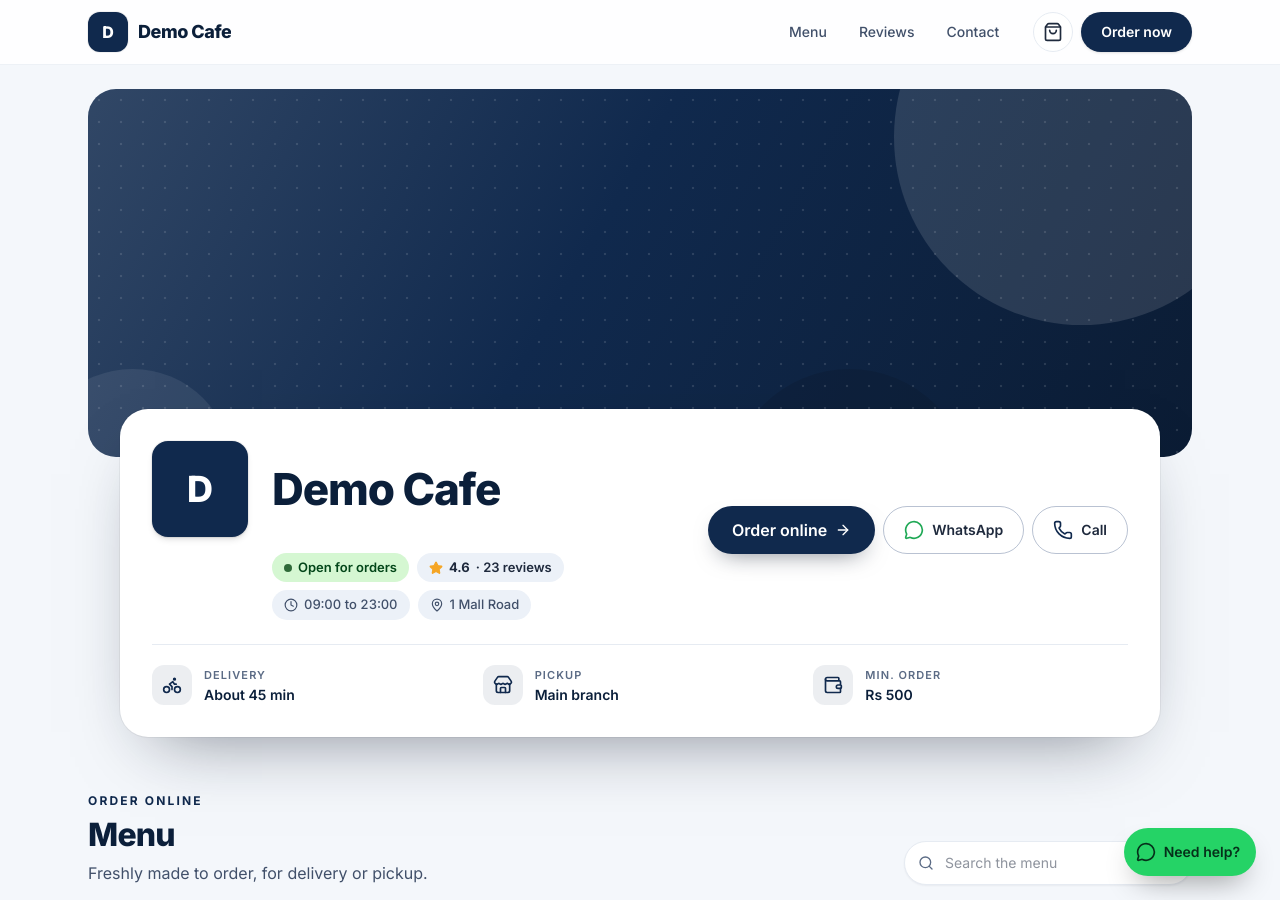
Scenario: StorefrontView branded site › filters the menu by search and offers to clear an empty result
In the search field labelled "Search the menu": [1048, 863] box [904,841,1192,885], type "raita"
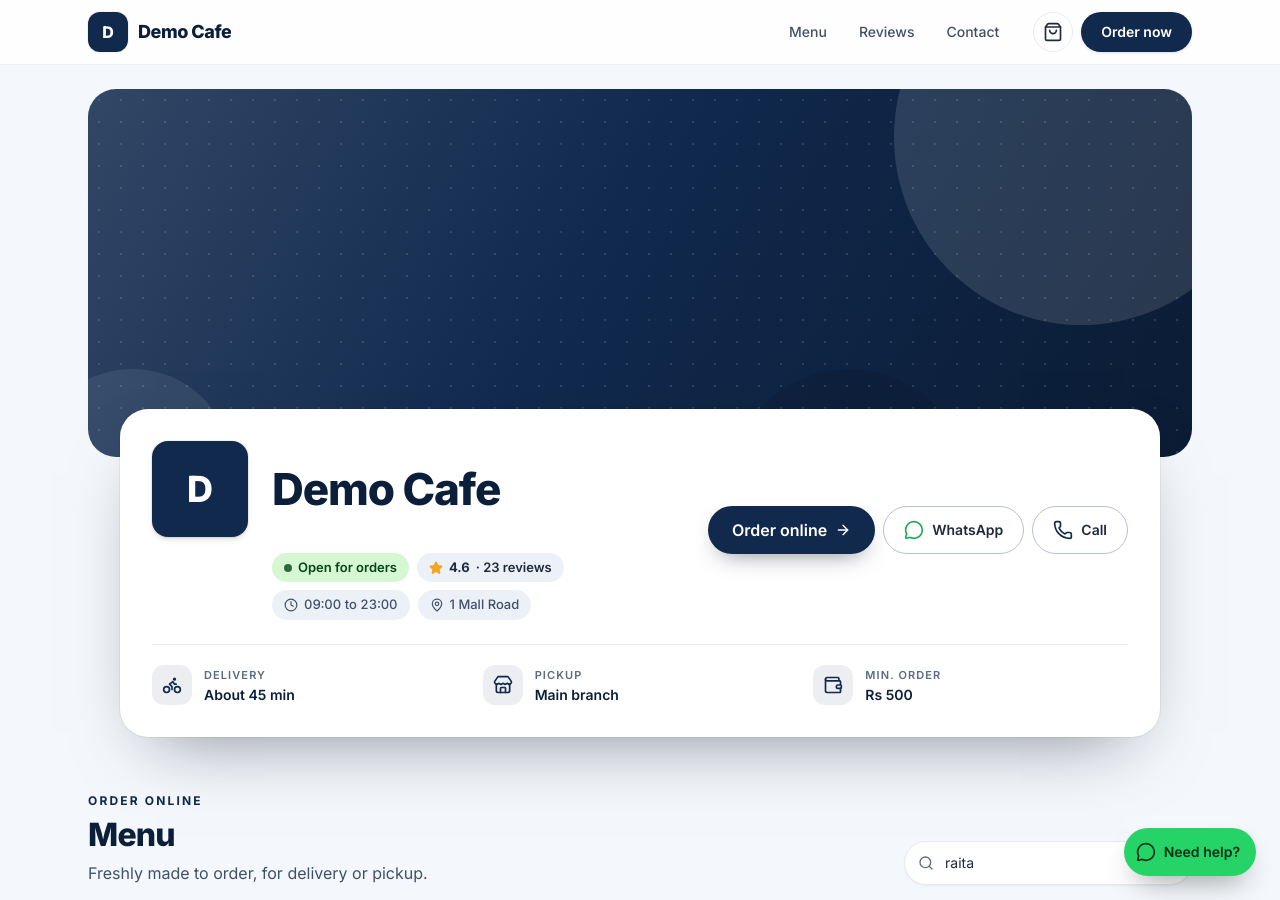
Replace the text in the search field named "Search the menu" with "sushi": [1048, 863] box [904,841,1192,885]
(page scrolled)
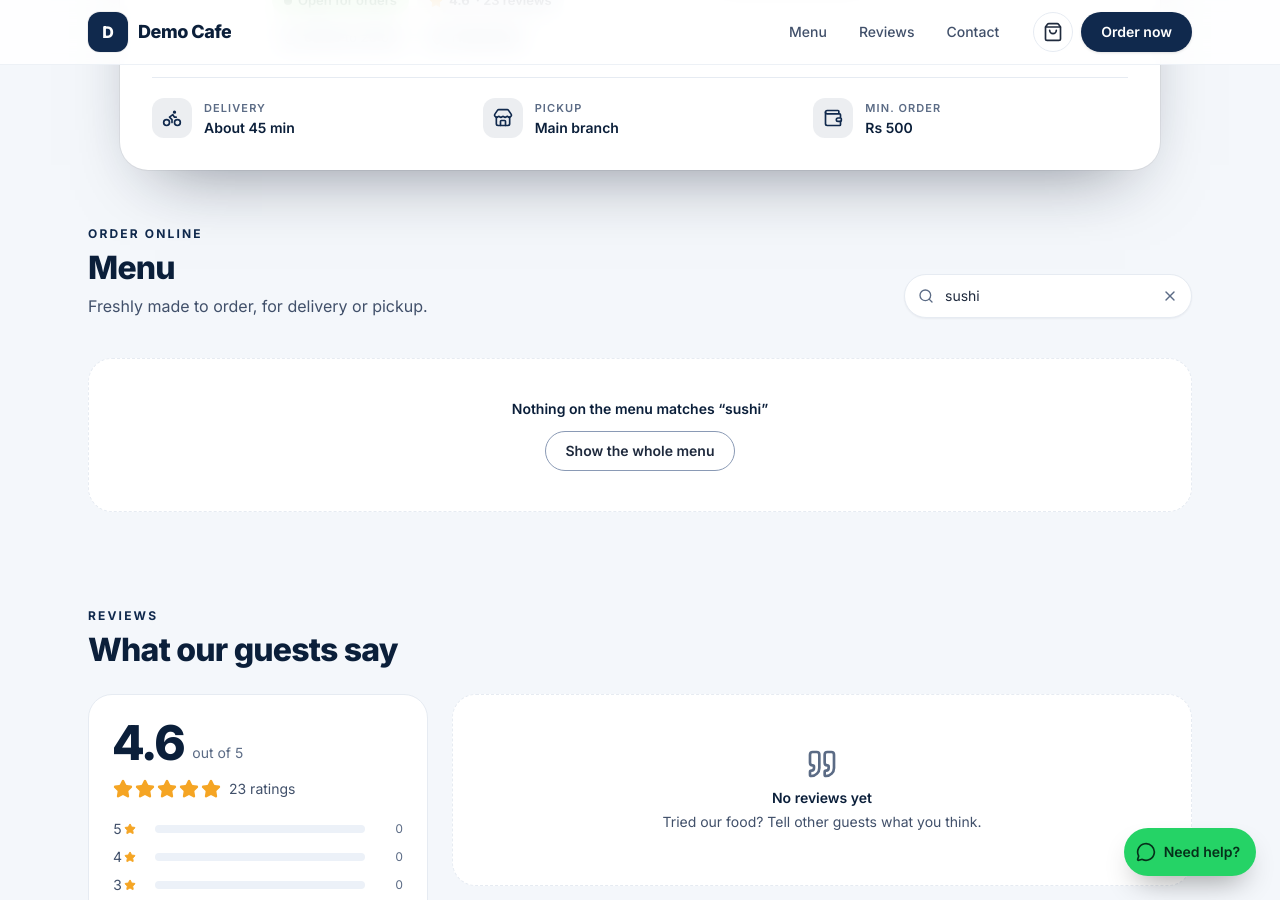
expect the text "Nothing on the menu matches “sushi”" is shown: met, box [512,400,768,417]
Click the button "Show the whole menu": [640, 451] box [544,431,736,471]
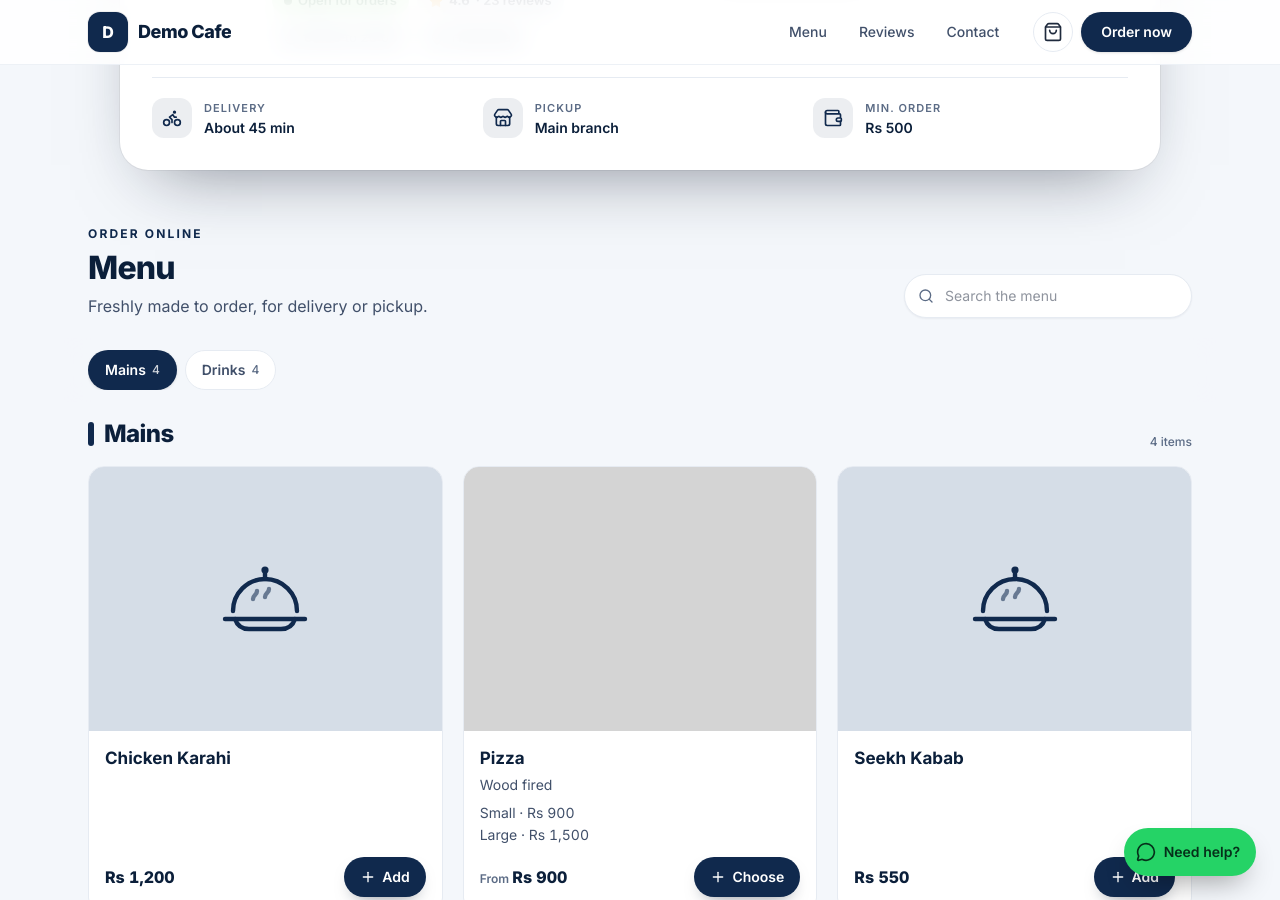
expect the search field labelled "Search the menu" is empty: met, box [904,274,1192,318]
expect the heading "Chicken Karahi" is shown: met, box [105,748,231,768]
